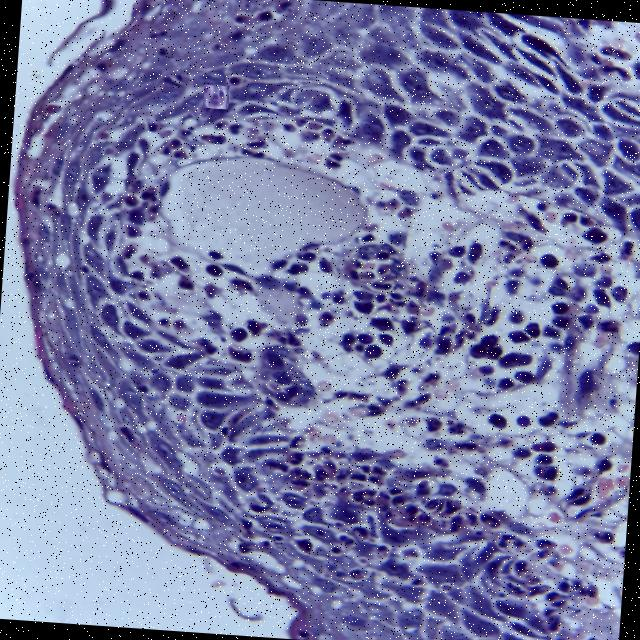Multiple Nucleol: (204, 83, 227, 107)
